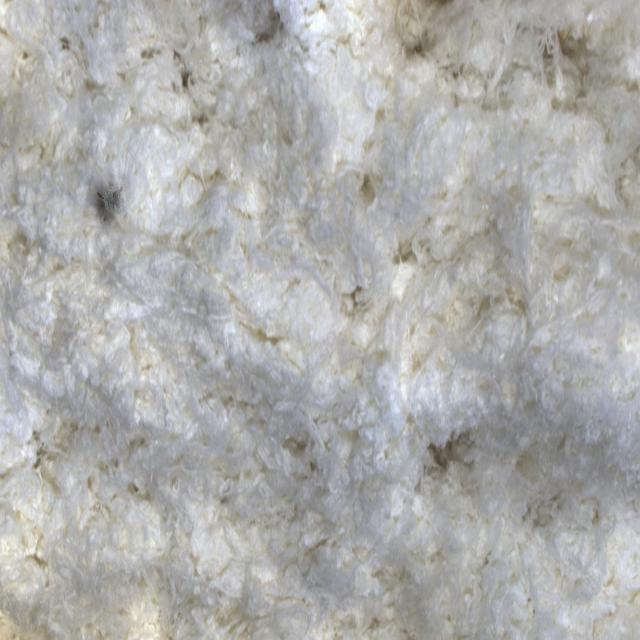dust: (60, 155, 143, 240)
